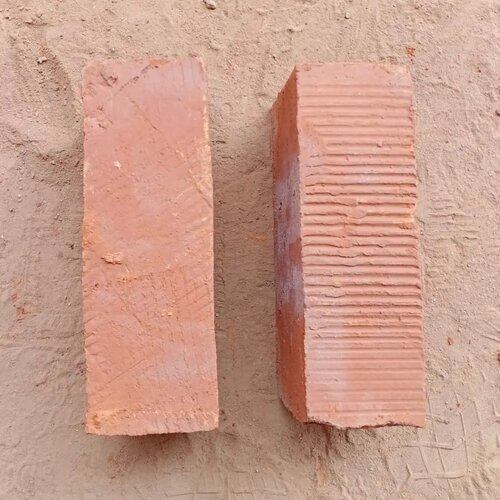brick: (83, 51, 218, 434), (299, 61, 430, 430)
